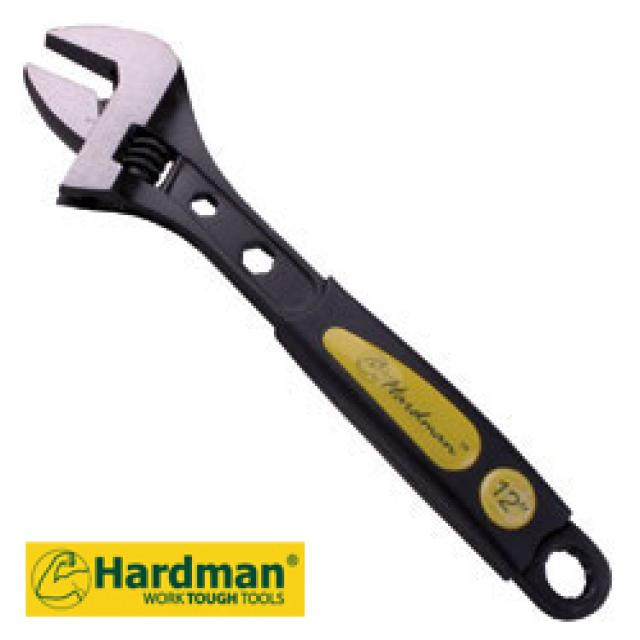wrench: (12, 0, 436, 449)
